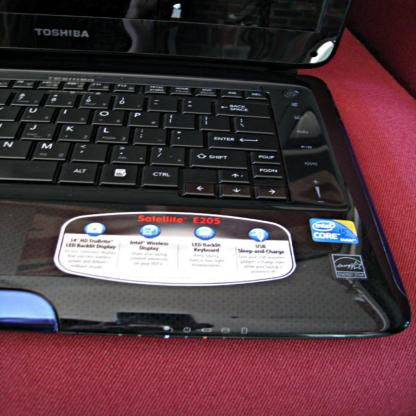board: (0, 1, 412, 341)
